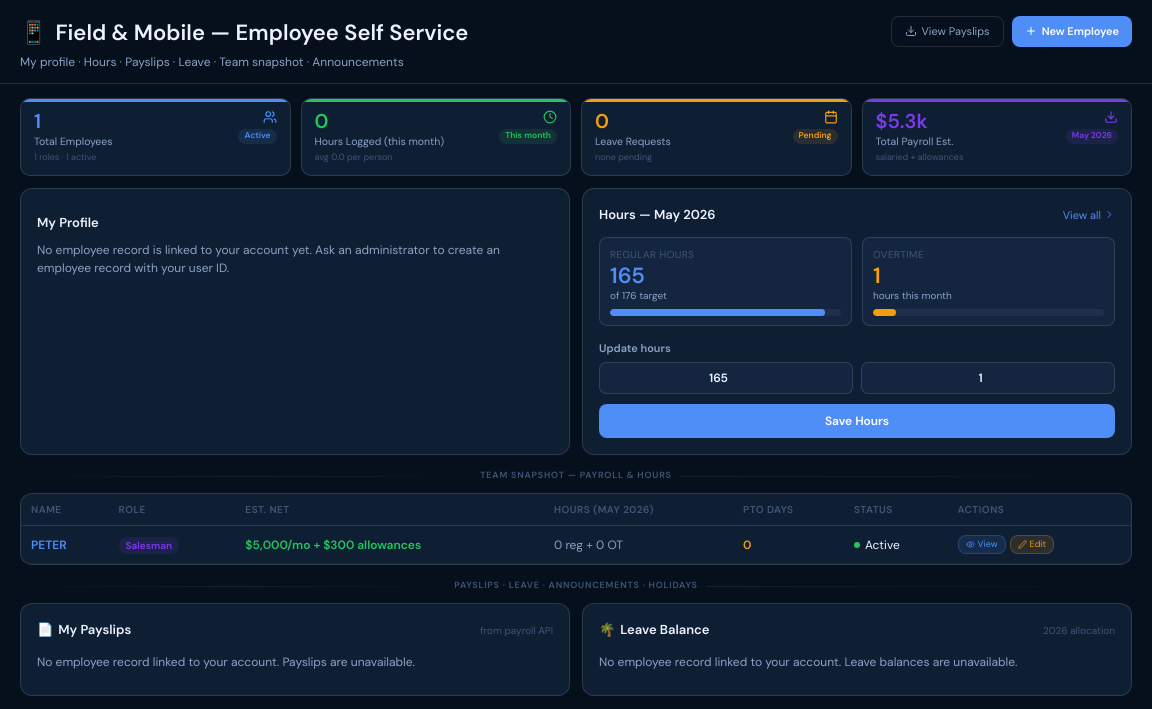
Test: EmployeePortal pay summary › opens the pay-profile editor from the edit modal and does not use an editable net-pay input
The width and height of the screenshot is (1152, 709).
Click the button "Edit" at (1032, 545), box [1010,535,1054,554]
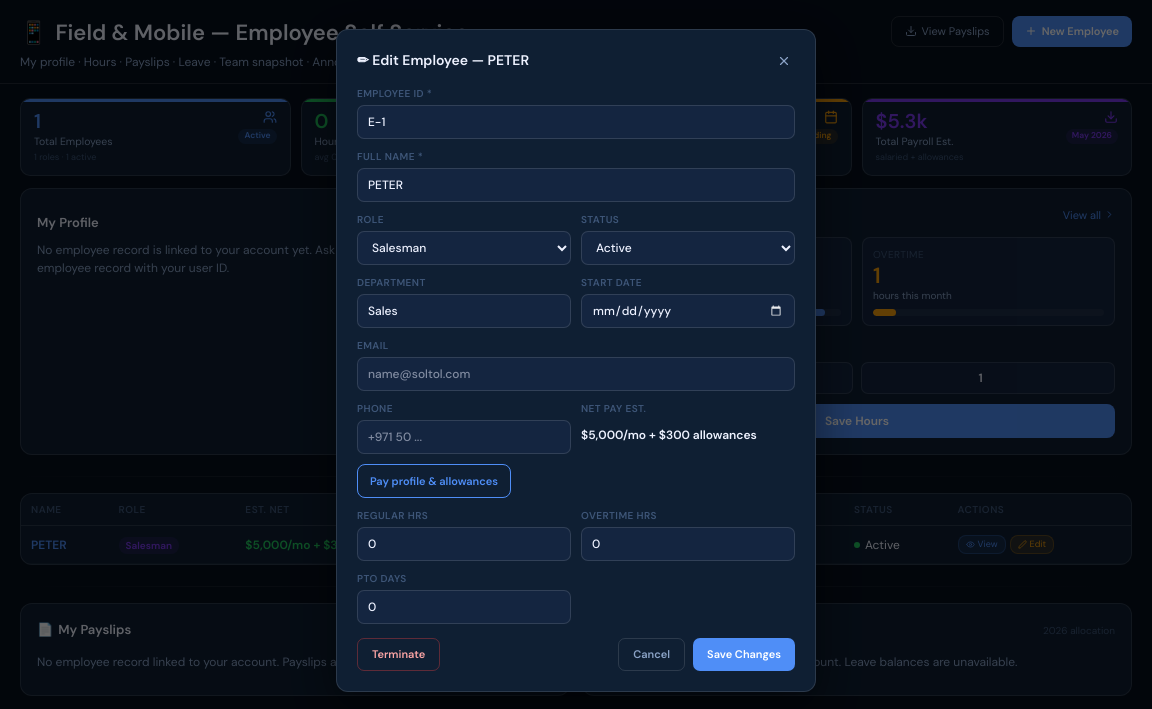
Now the label "Net Pay Est. $5,000/mo + $300 allowances" is shown, box [581,402,757,442]
Now the button "Pay profile & allowances" is shown
Click the button "Pay profile & allowances" at (434, 481), box [357,464,511,498]
(page scrolled)
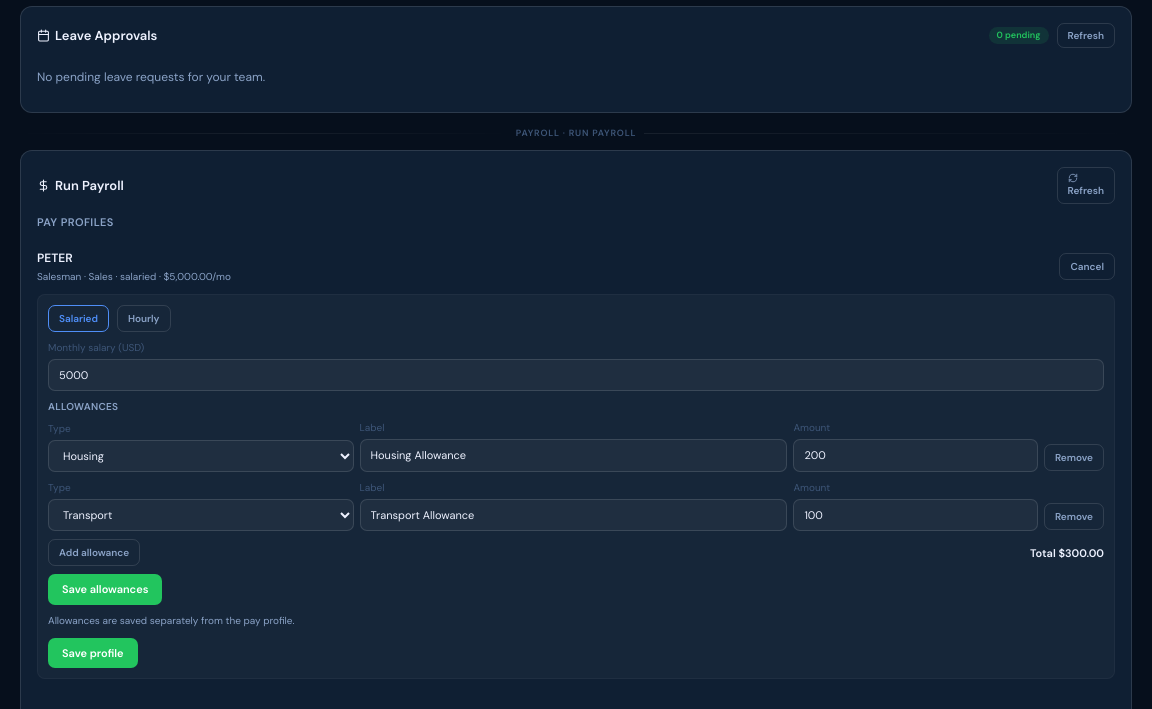
Expected: the text "ALLOWANCES" is shown, [48,400,118,413]
Now the dropdown named "Allowance type" is shown, box [48,440,354,472]
Now the text "Edit Employee — PETER" is gone
